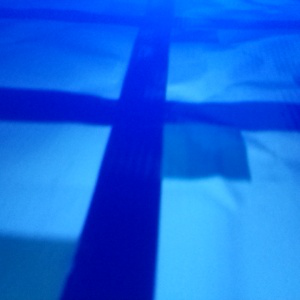bottom_right: (113, 101, 251, 180), (142, 17, 218, 43)
